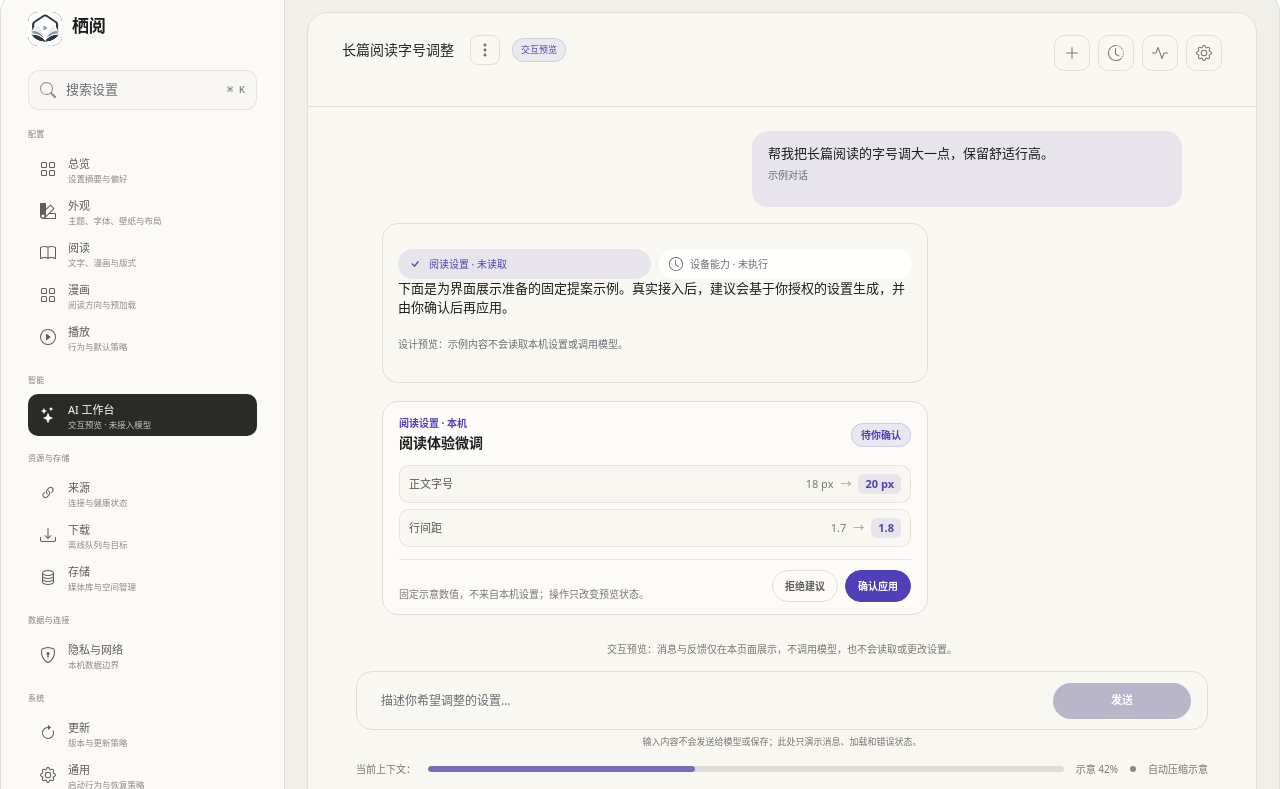
AIWorkbenchPreviewPage › shows a failed example with an explicit error and no settings changes
What coordinates should you click on to do the following:
click the button named "执行记录"
I would click on:
 (1160, 53)
Its box is [1142, 35, 1178, 71].
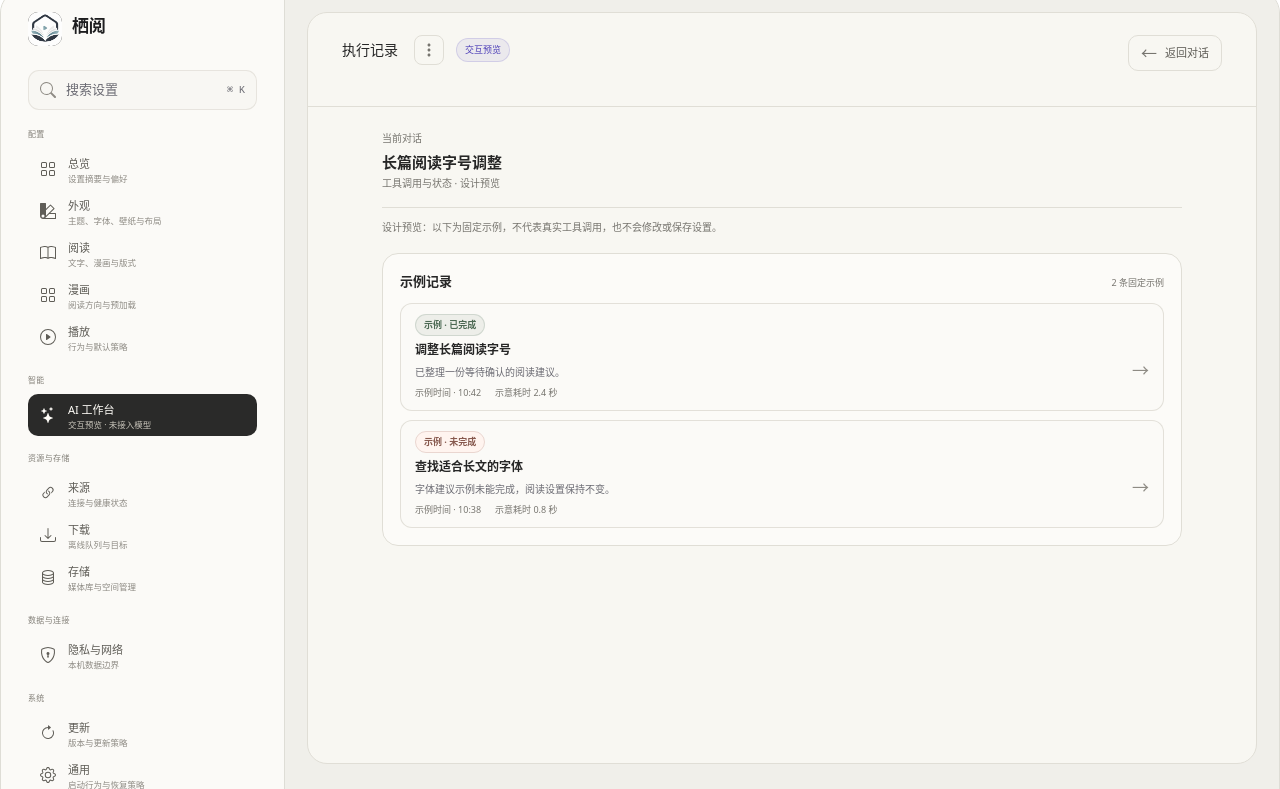
What coordinates should you click on to do the following:
click the button with aria-label "查看示例记录：查找适合长文的字体"
I would click on:
 (450, 442)
Its box is [400, 420, 1164, 528].
(page scrolled)
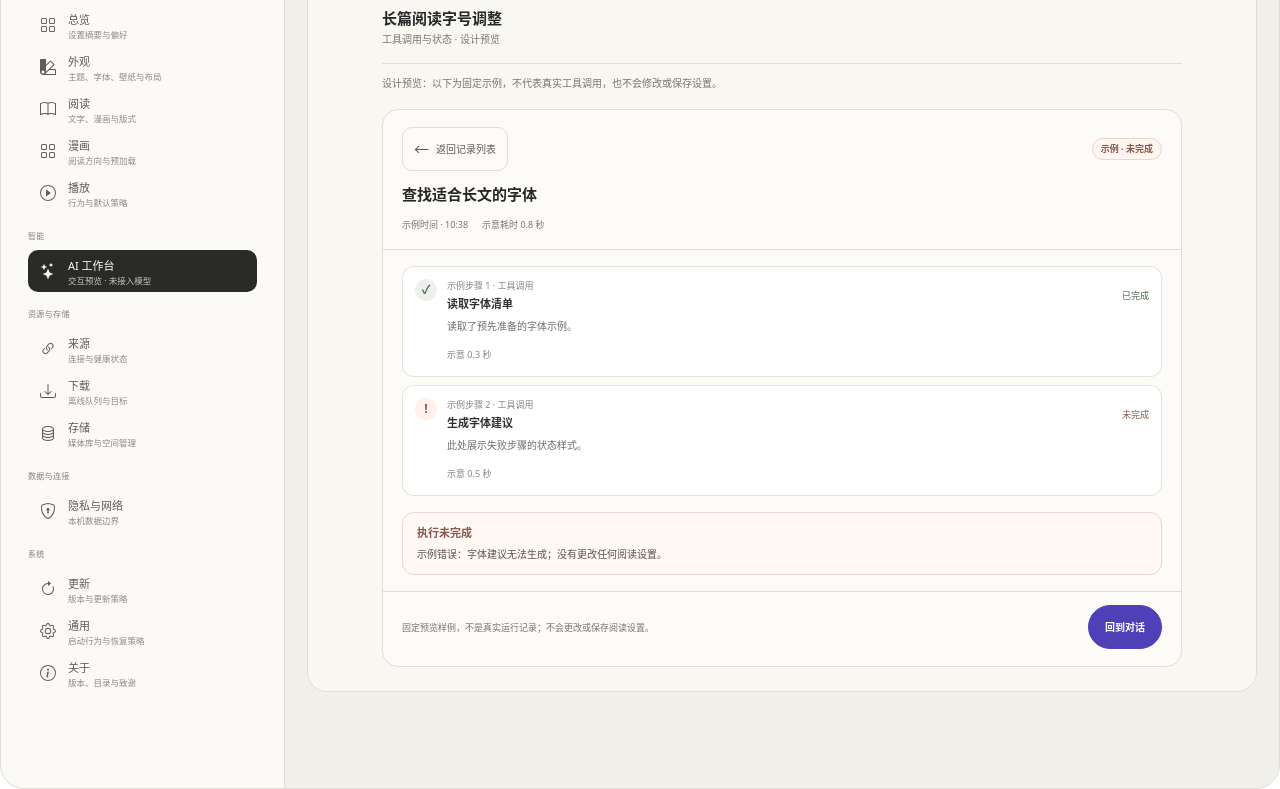
Result: the heading "查找适合长文的字体" is shown at [402, 184, 537, 204]
Result: the heading "执行未完成" is shown at [417, 525, 472, 540]
Result: the text "示例时间 · 10:38" is shown at [402, 217, 468, 232]
What coordinates should you click on to do the following:
click the button "回到对话"
I would click on:
 (1125, 627)
Its box is [1088, 605, 1162, 649].
(page scrolled)
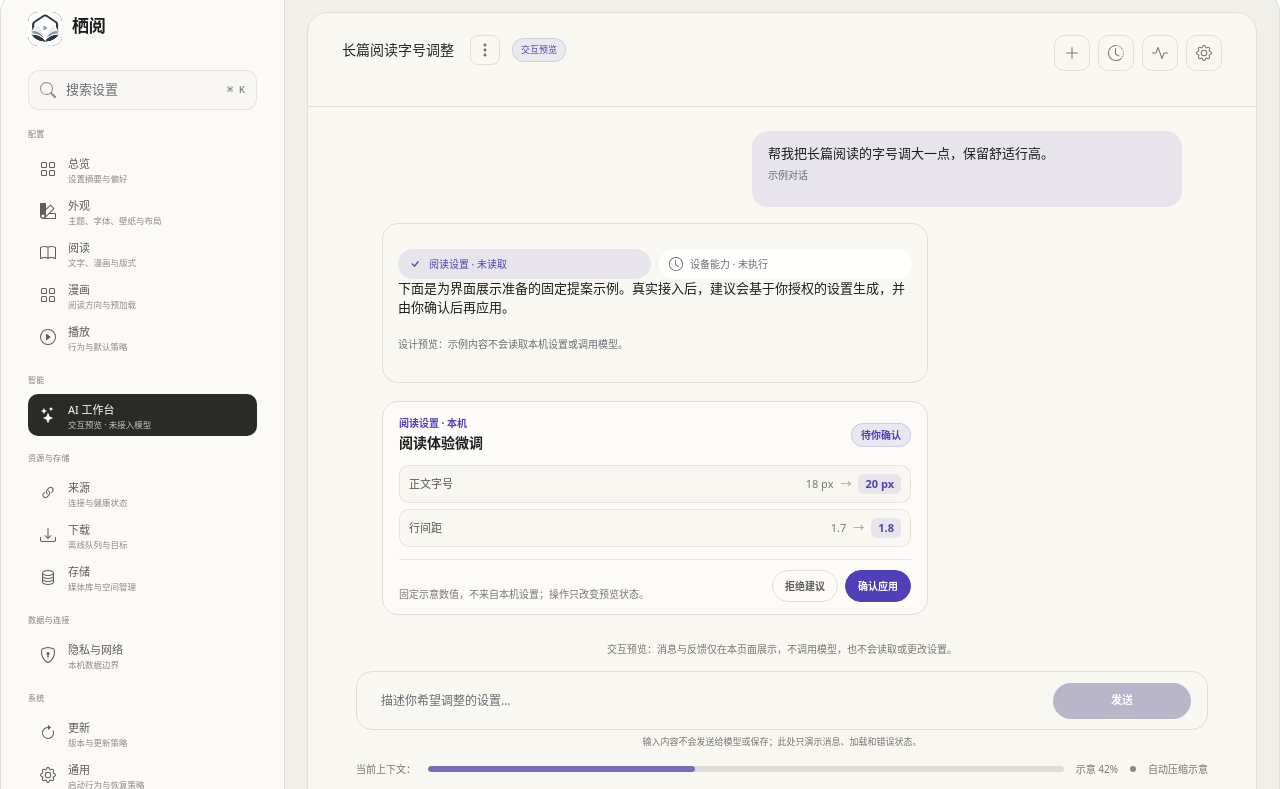
Result: the element named "对话内容" is shown at [382, 131, 1182, 615]
Result: the heading "长篇阅读字号调整" is shown at [342, 38, 454, 62]
